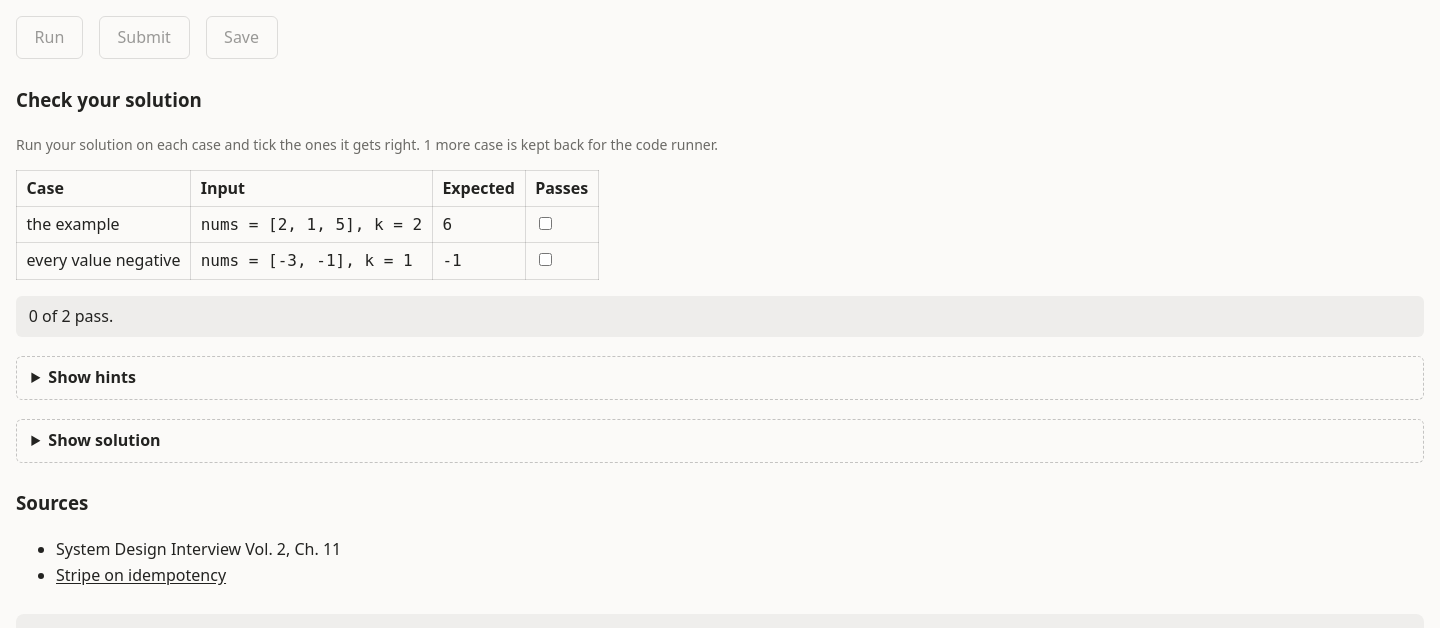
UnitPage › puts a coding problem's cases before its hints, and never shows the hidden ones
(page scrolled)
Check: the element "Check your solution" shows "1 more case is kept back", box [16, 85, 1424, 337]
Check: the text "0 of 2 pass." is shown, box [16, 296, 1424, 337]
Step 1. Click the checkbox named "Passes: the example" → (546, 224), box [539, 217, 552, 230]
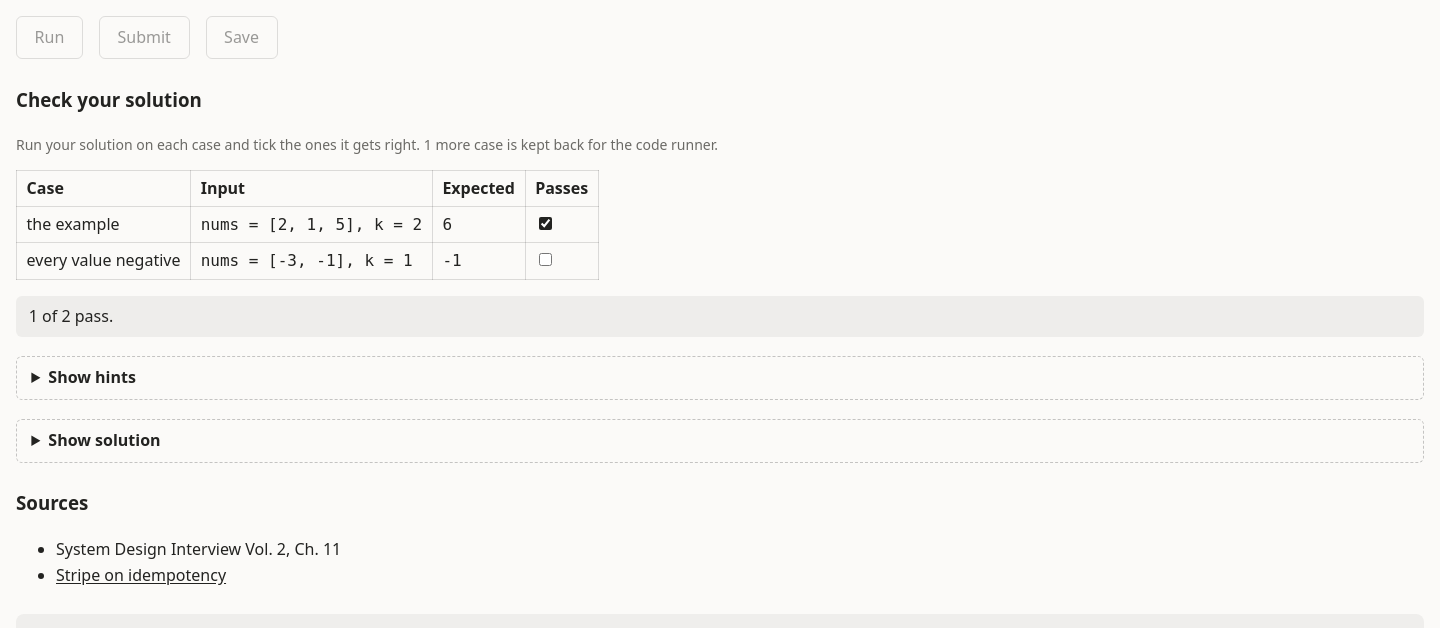
Step 2. Click the checkbox named "Passes: every value negative" → (546, 260), box [539, 253, 552, 266]
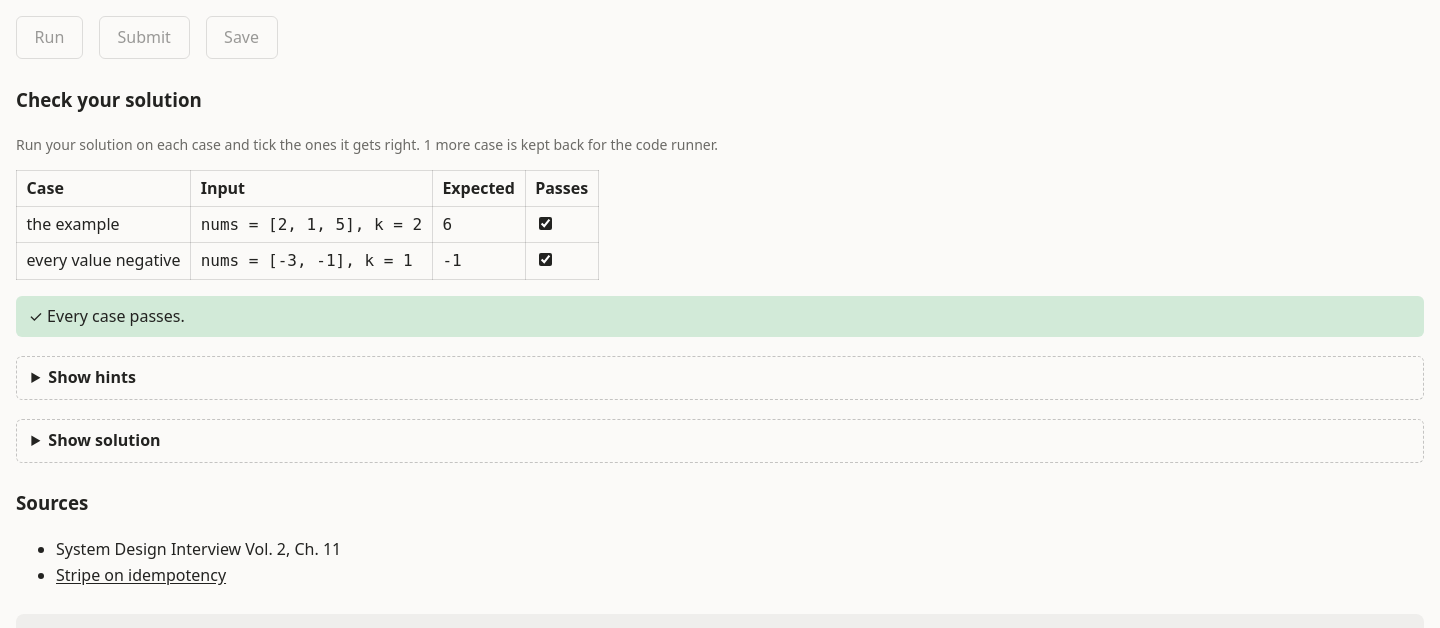
Check: the message shows "Every case passes", box [29, 305, 185, 327]
